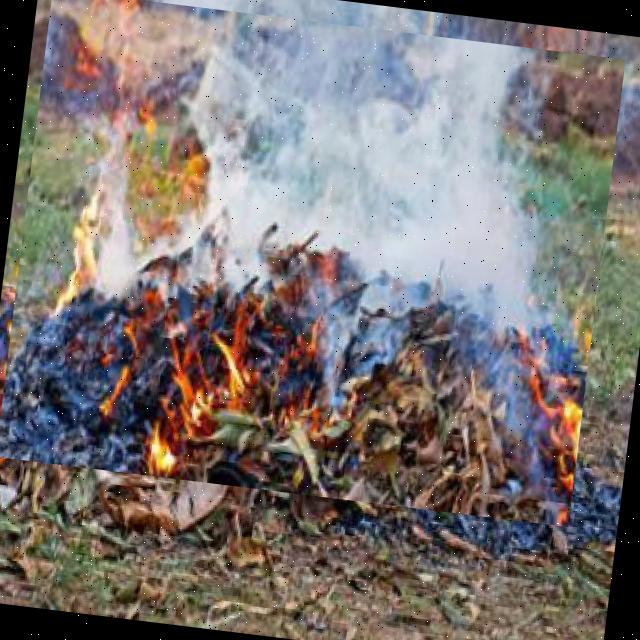fire: (0, 0, 625, 527)
